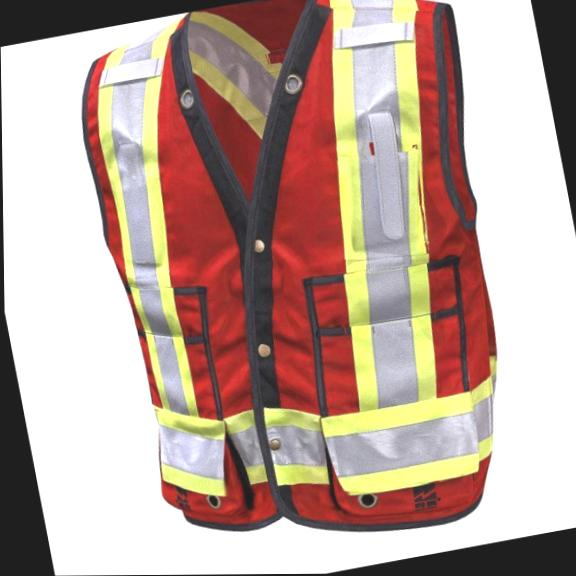safety_vest: (60, 0, 550, 576)
